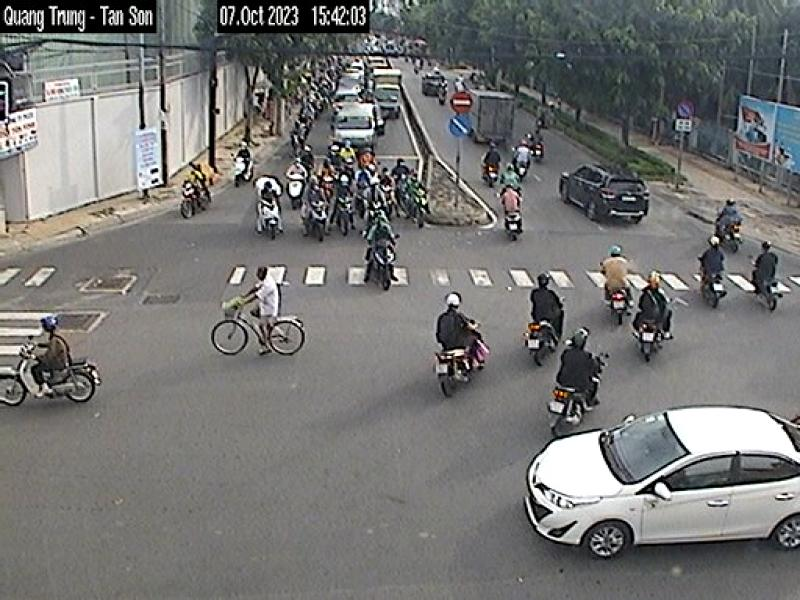car: (514, 396, 800, 600), (547, 154, 664, 234), (325, 100, 387, 159)
motorcycle: (0, 342, 100, 414)
truck: (463, 83, 536, 160), (369, 62, 413, 151)
